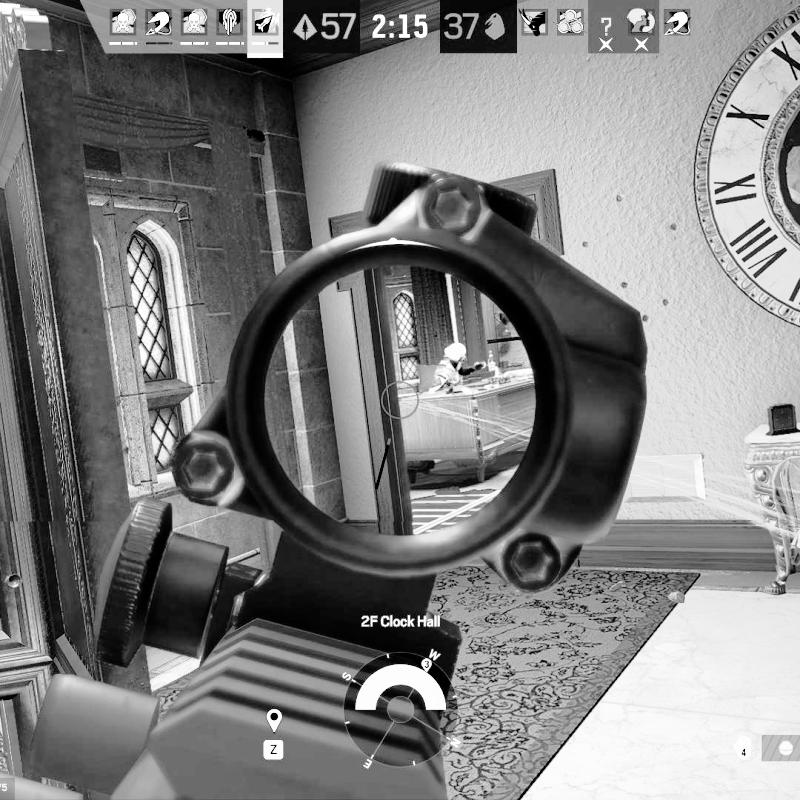Character: (432, 339, 486, 391)
Head: (446, 341, 468, 370)
